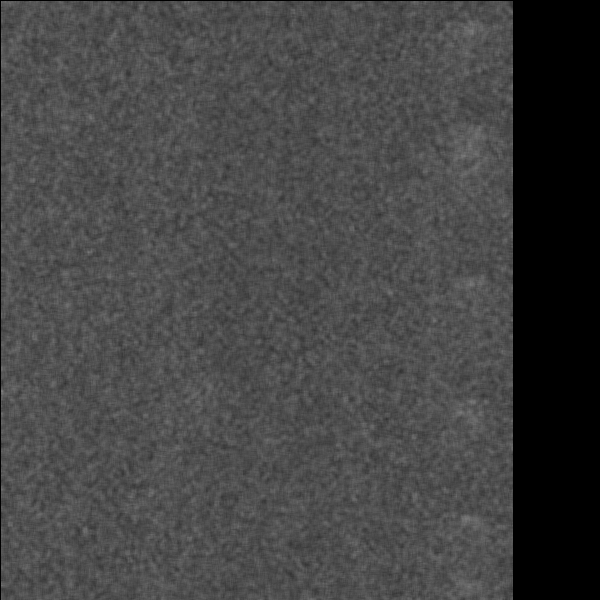spark: (257, 383, 321, 492), (404, 565, 461, 600)
